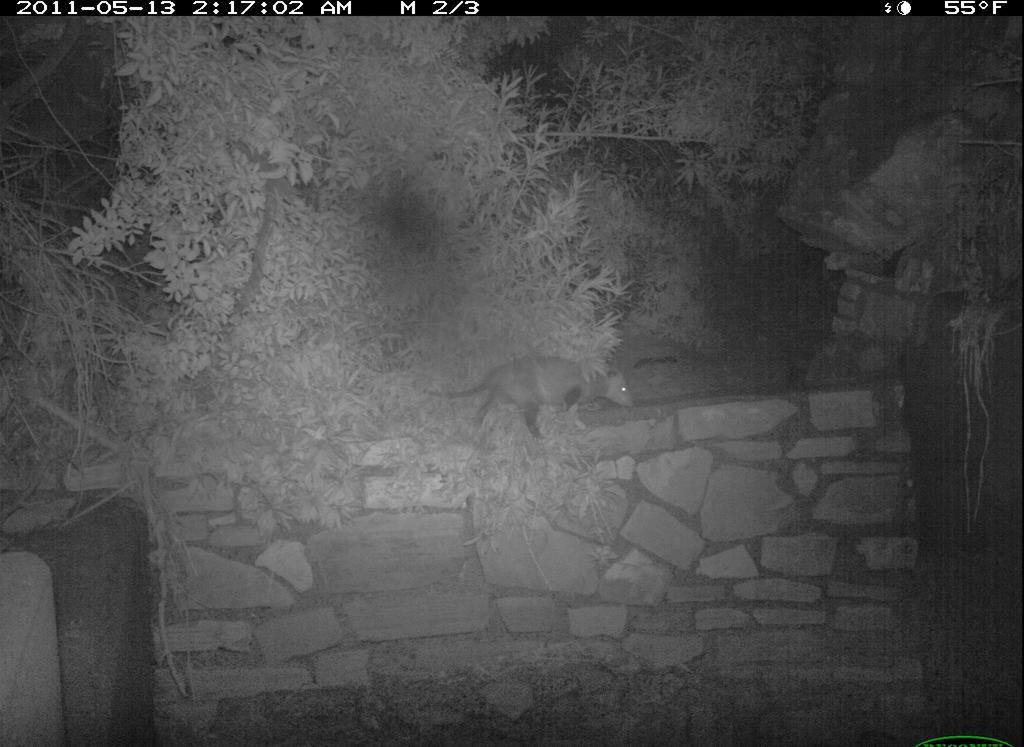opossum: (420, 359, 639, 438)
